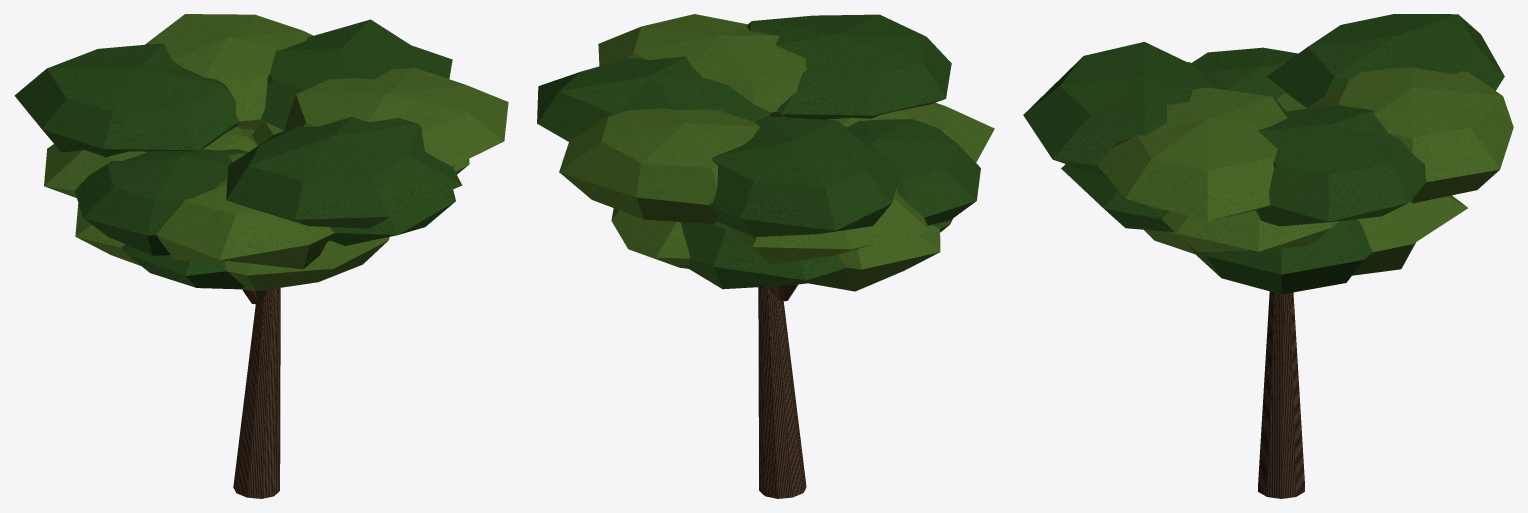
File: tree_umbrella_01.fbx
3 renders of one model, left to right at view 1: azimuth 30°, elevation 25°; view 2: azimuth 150°, elevation 25°; view 3: azimuth 270°, elevation 25°, orthographic. The views are drawn at different scales.
Visible parts, largest first — view 1: tree_umbrella_01_LOD0; view 2: tree_umbrella_01_LOD0; view 3: tree_umbrella_01_LOD0.
Boxes of the visible parts, x1=… form: tree_umbrella_01_LOD0: x1=14, y1=14, x2=508, y2=498; tree_umbrella_01_LOD0: x1=537, y1=14, x2=994, y2=498; tree_umbrella_01_LOD0: x1=1023, y1=14, x2=1513, y2=498.
Size of what is drawn, in the model's own units: 1.05 by 1 by 1.06.
